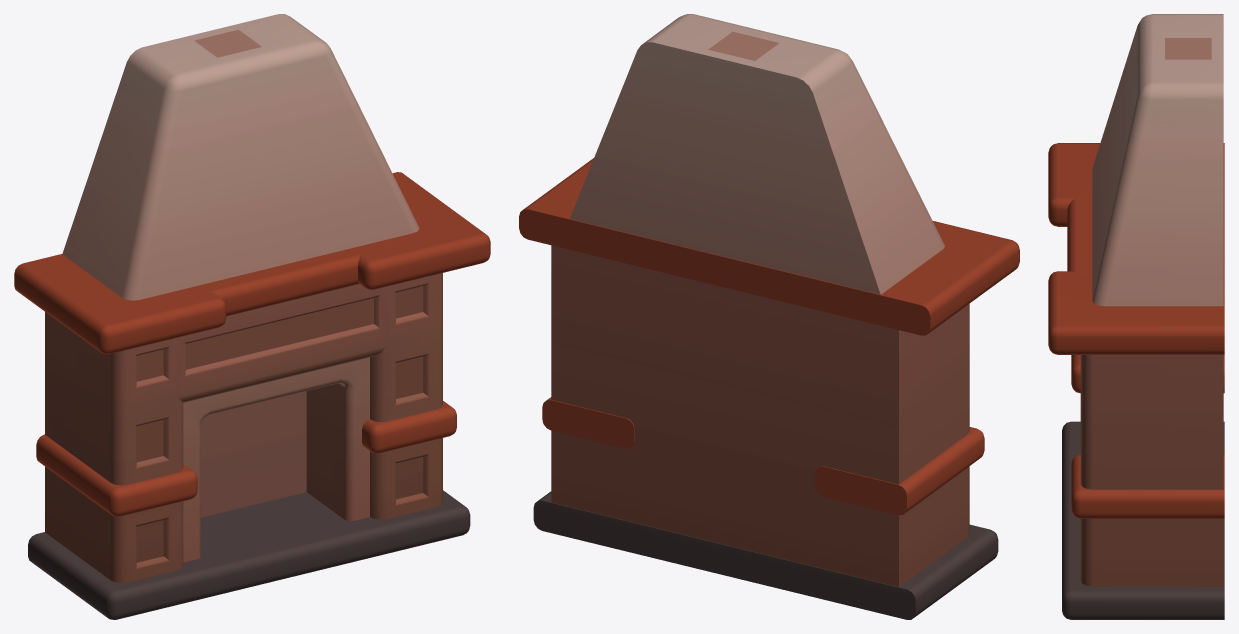
File: Fireplace_05.glb
3 renders of one model, left to right at view 1: azimuth 30°, elevation 25°; view 2: azimuth 150°, elevation 25°; view 3: azimuth 270°, elevation 25°, orthographic. The views are drawn at different scales.
Visible parts, largest first — view 1: Fireplace_05; view 2: Fireplace_05; view 3: Fireplace_05.
Boxes of the visible parts, left/top/right/bottom form: Fireplace_05: left=14, top=14, right=490, bottom=619; Fireplace_05: left=519, top=14, right=1019, bottom=619; Fireplace_05: left=1048, top=14, right=1224, bottom=619.
Bounding box in the file's own units: 1.42 × 1.7 × 0.5579.
1 material, 1 textured.
